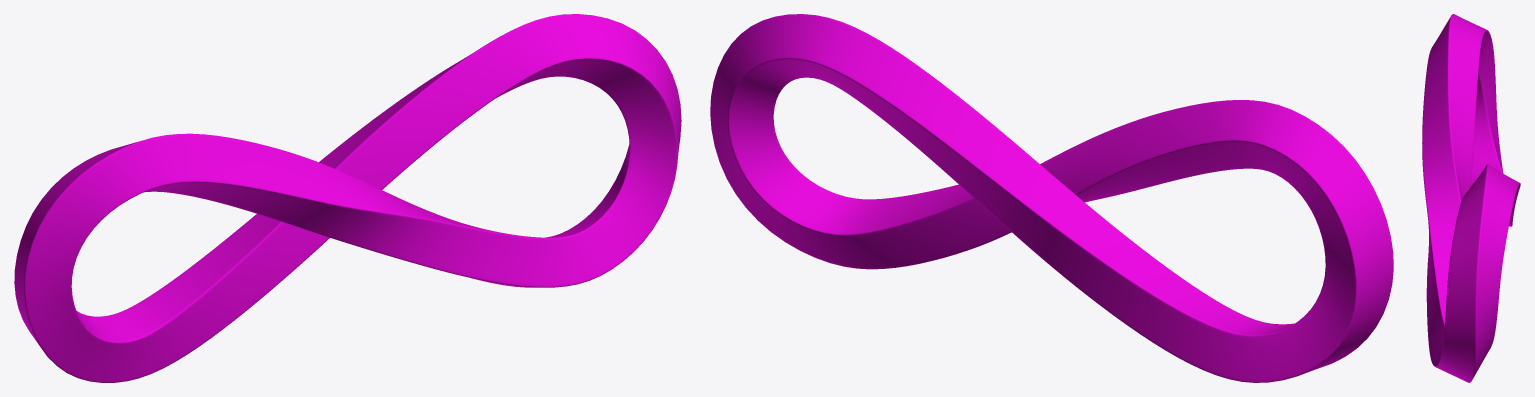
Rendered from squareInfinity1.glb.
The picture shows the model from 3 angles, left to right: view 1: azimuth 30°, elevation 25°; view 2: azimuth 150°, elevation 25°; view 3: azimuth 270°, elevation 25°; orthographic projection. The views are drawn at different scales.
Parts seen in each view (by area): view 1: Infinity_loop; view 2: Infinity_loop; view 3: Infinity_loop.
Boxes of the visible parts, x1,y1,x2,y2 form: Infinity_loop: (14, 14, 681, 382); Infinity_loop: (710, 14, 1393, 382); Infinity_loop: (1422, 14, 1520, 382).
Bounding box in the file's own units: 2.72 × 1 × 0.46.
